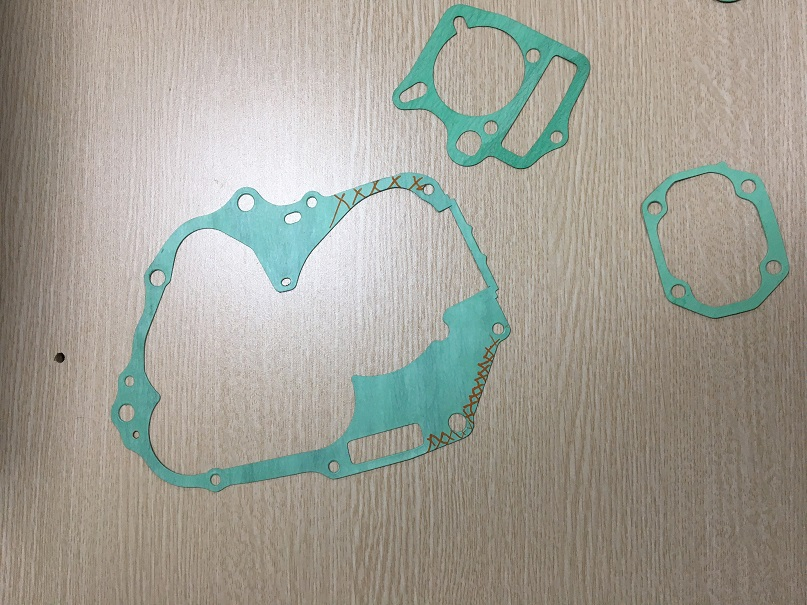type2: (631, 156, 799, 320)
type3: (105, 173, 513, 497)
type4: (383, 1, 593, 180)
